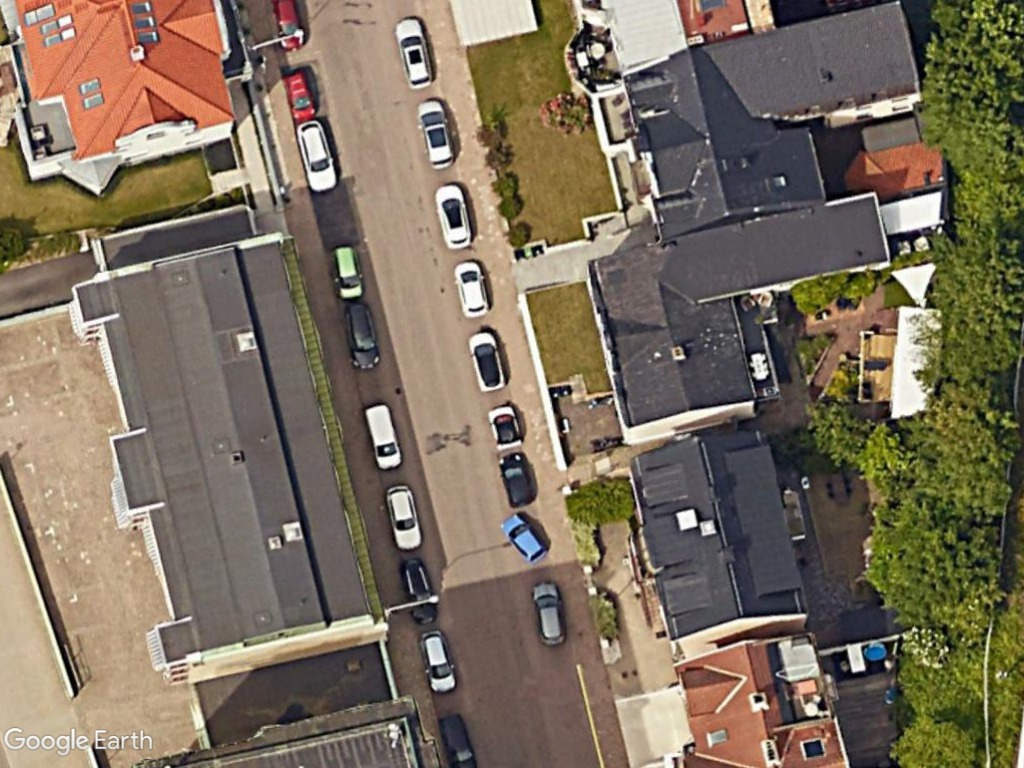car: (296, 114, 341, 196), (393, 14, 438, 95), (340, 295, 385, 375), (383, 481, 427, 557), (413, 97, 458, 171), (530, 577, 573, 654), (434, 180, 476, 252), (467, 326, 509, 397), (418, 628, 461, 696), (498, 515, 554, 567), (278, 63, 321, 126), (455, 254, 494, 322), (497, 449, 538, 511), (329, 238, 368, 302)
van: (359, 397, 407, 473)
